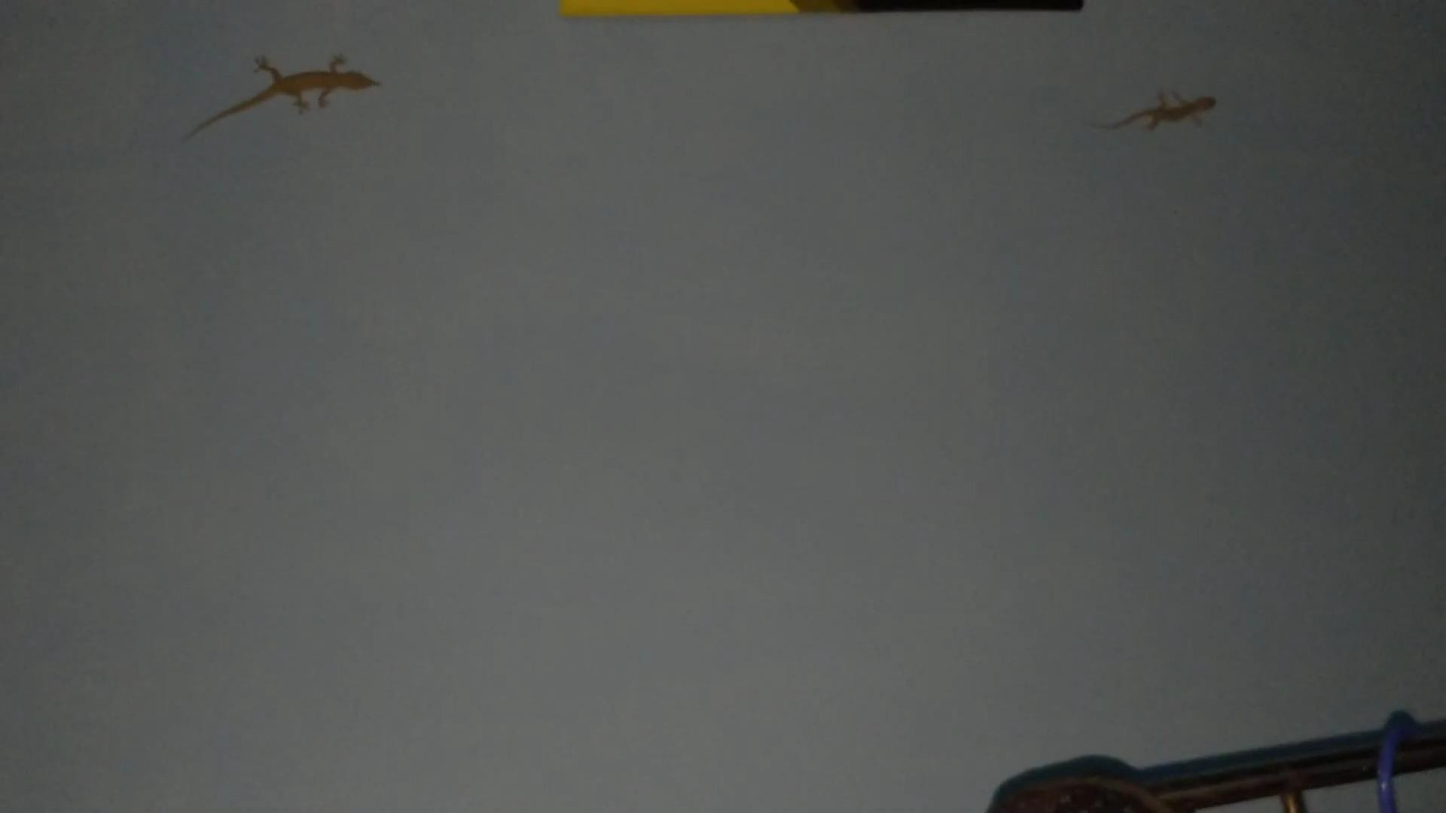lizard: (153, 30, 390, 145), (1094, 76, 1234, 148)
